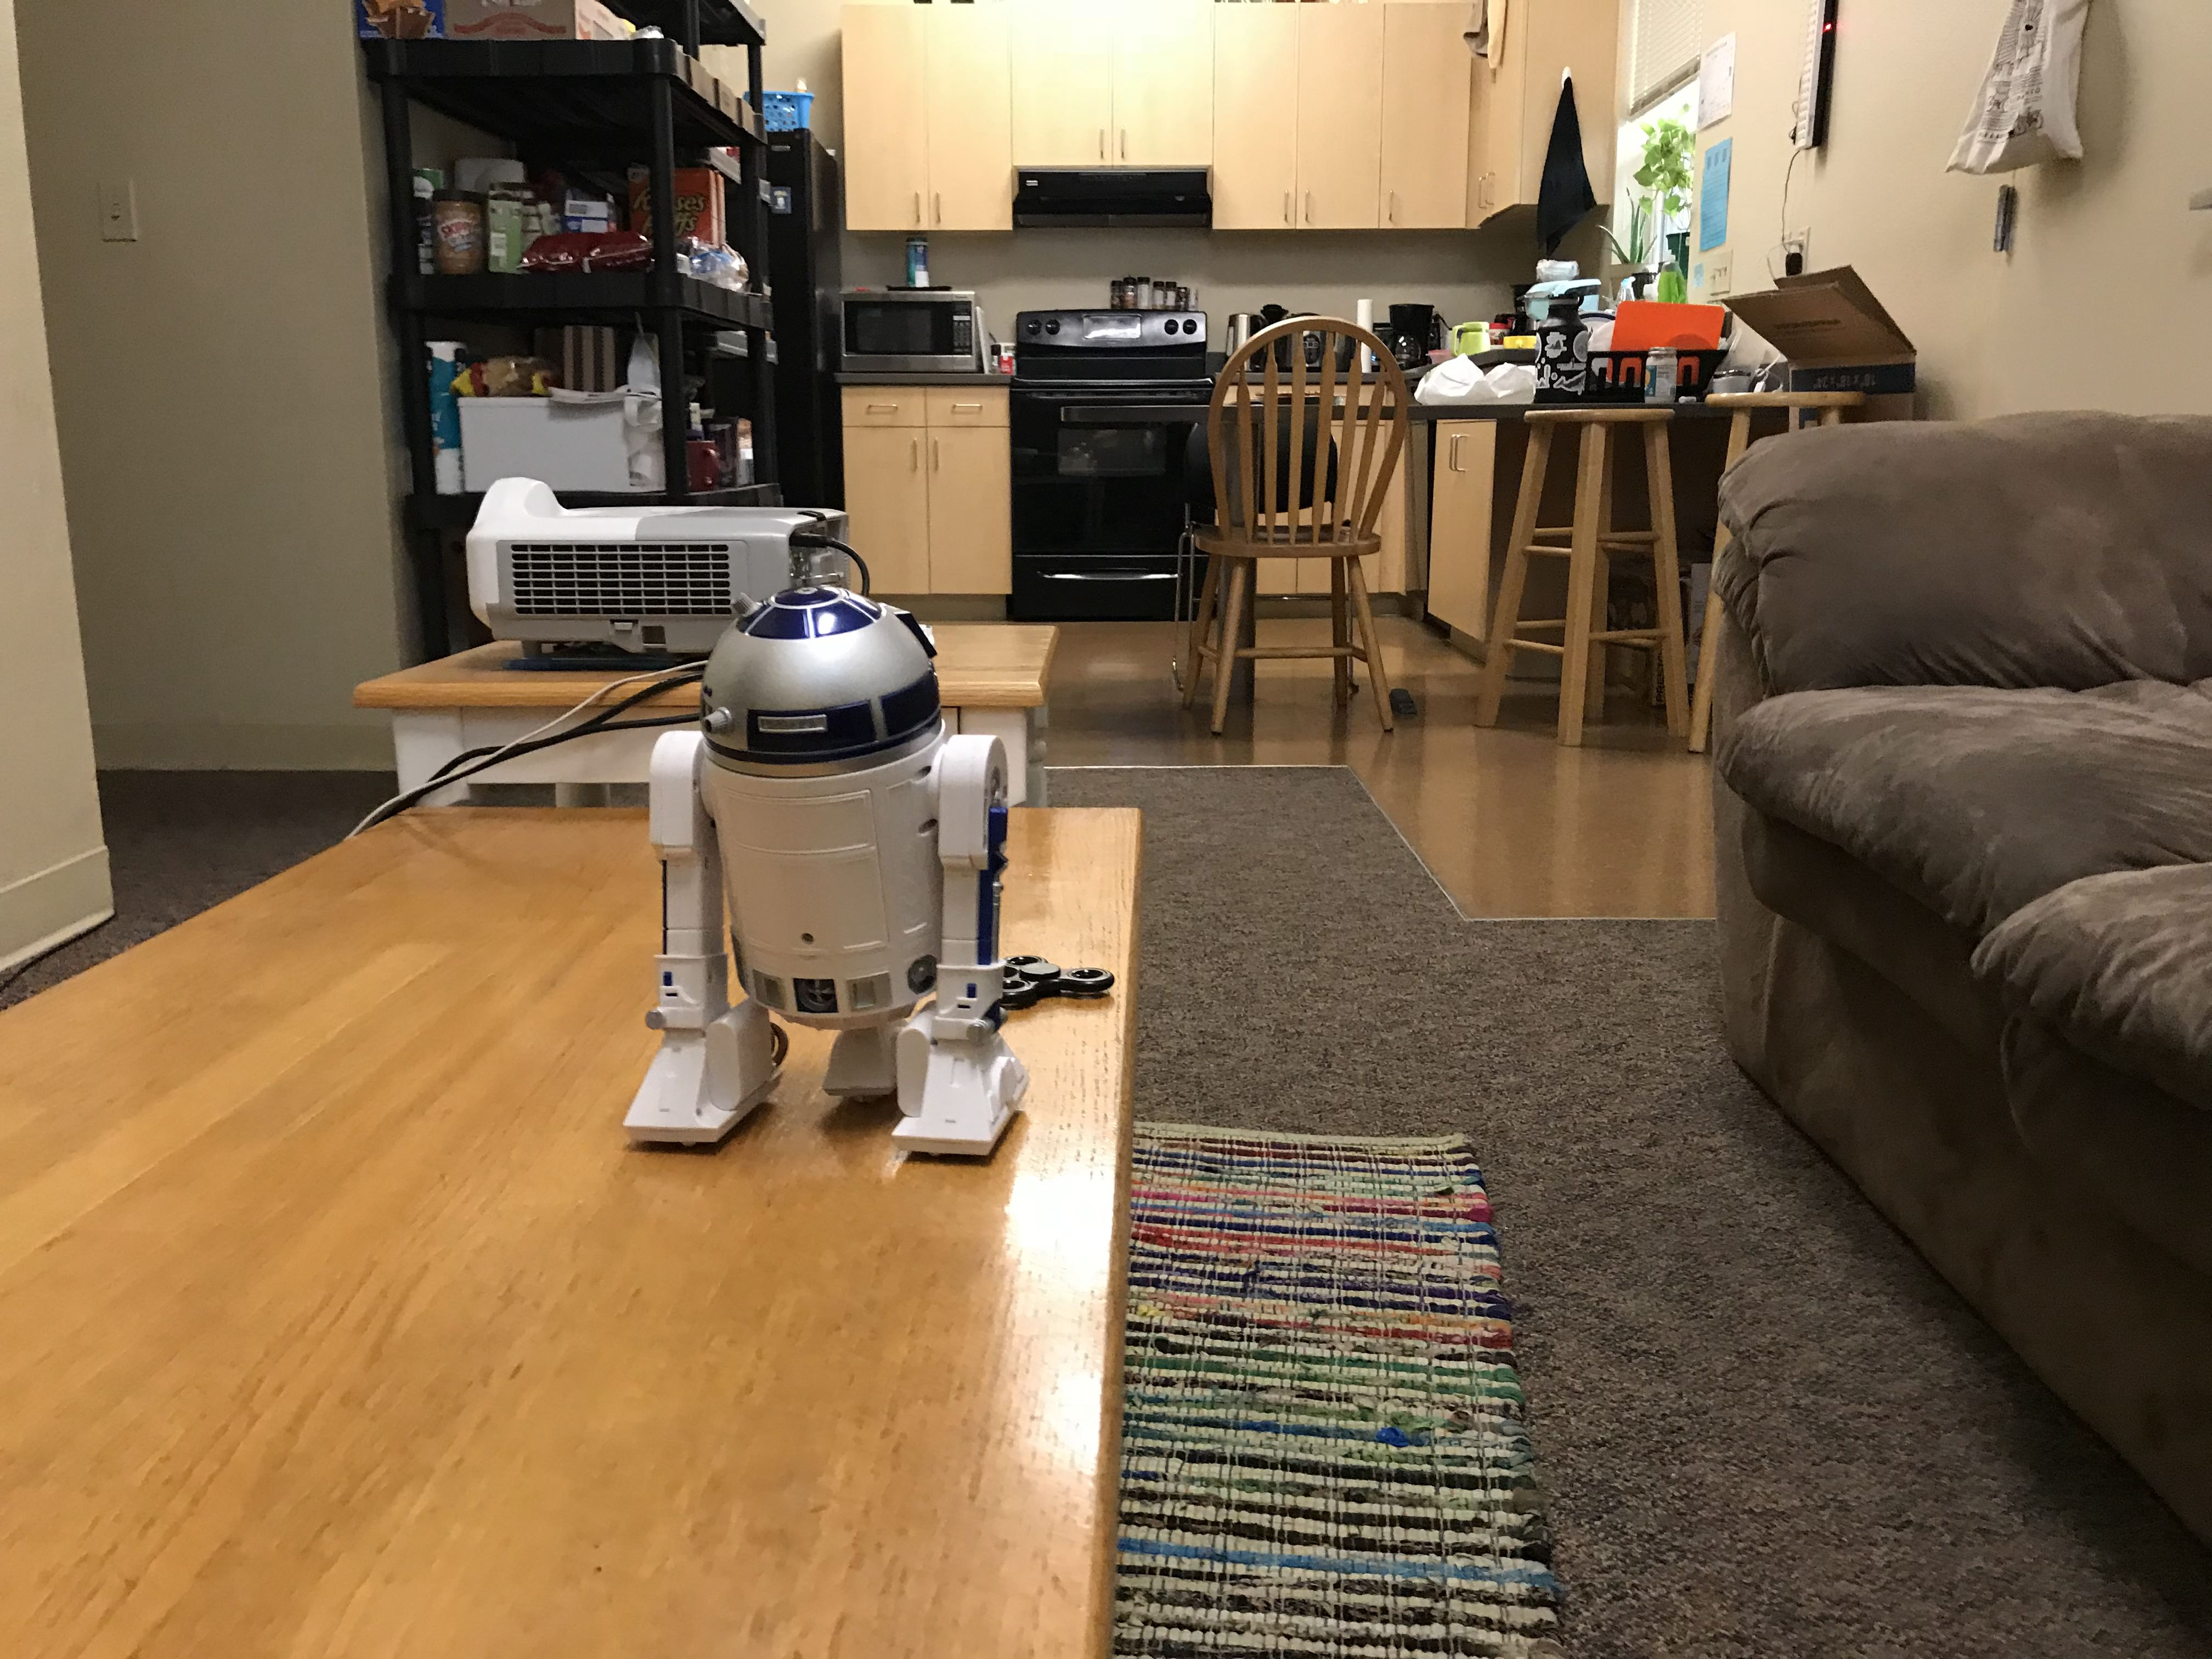r2d2: (622, 589, 1029, 1166)
